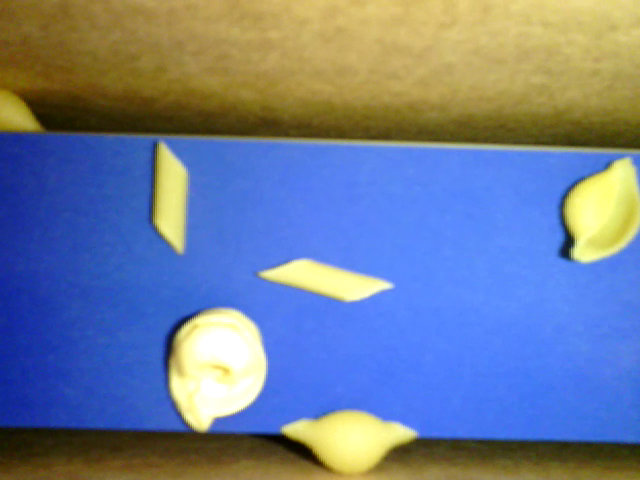penne: (256, 256, 394, 302), (150, 139, 188, 253)
shell: (280, 407, 419, 473), (560, 155, 639, 264)
tortellini: (168, 307, 268, 433)
